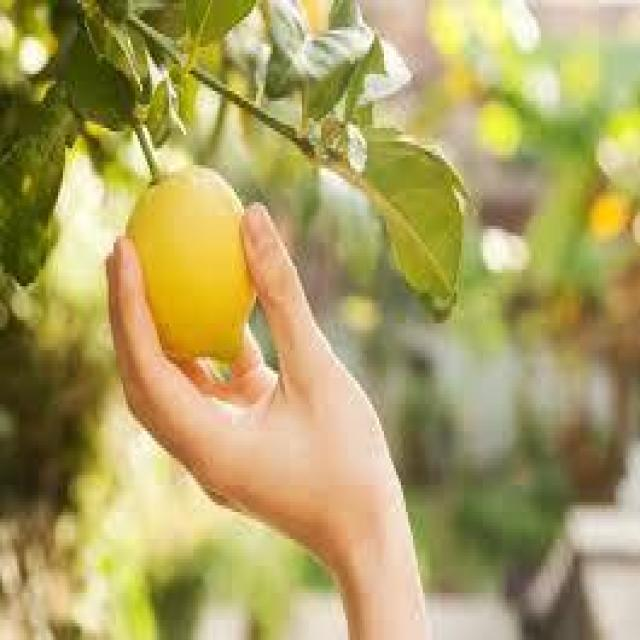fruit: (109, 162, 266, 372)
